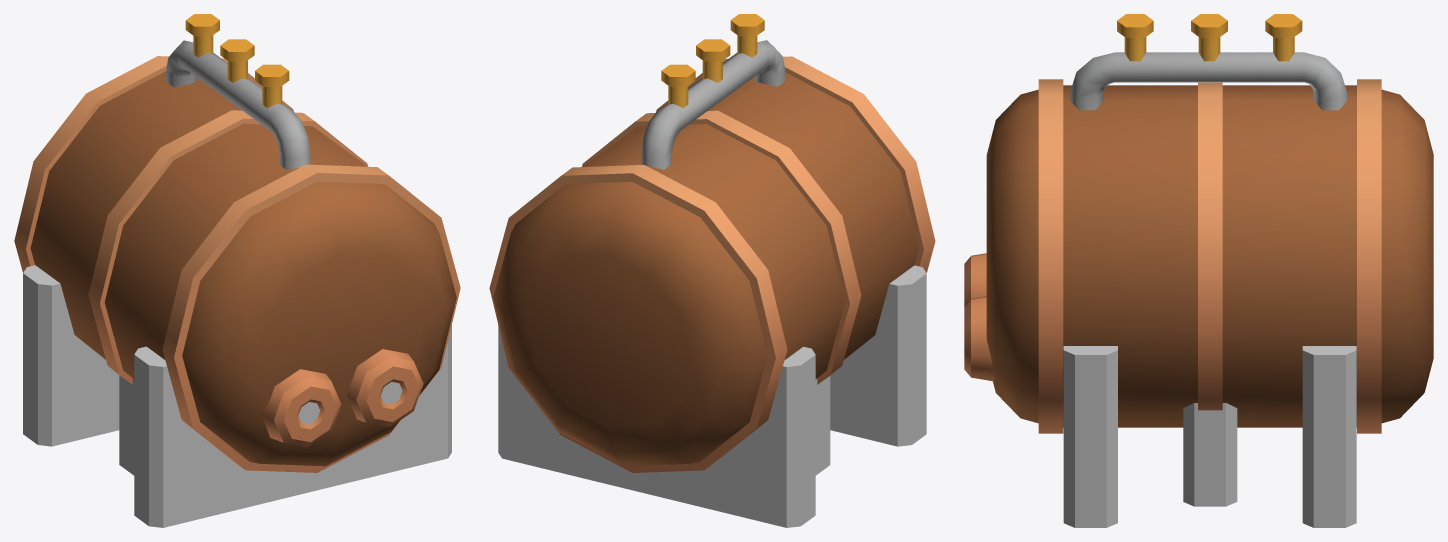
The model's file is barrel_001.fbx.
3 views of the same model, side by side, from view 1: azimuth 30°, elevation 25°; view 2: azimuth 150°, elevation 25°; view 3: azimuth 270°, elevation 25° (orthographic). The views are drawn at different scales.
Visible parts, largest first — view 1: barrel_001; view 2: barrel_001; view 3: barrel_001.
Boxes of the visible parts, box(x1,y1,x2,y2) form: barrel_001: box(14, 14, 460, 527); barrel_001: box(489, 14, 935, 527); barrel_001: box(964, 14, 1433, 527).
Bounding box in the file's own units: 303 × 379 × 381.
